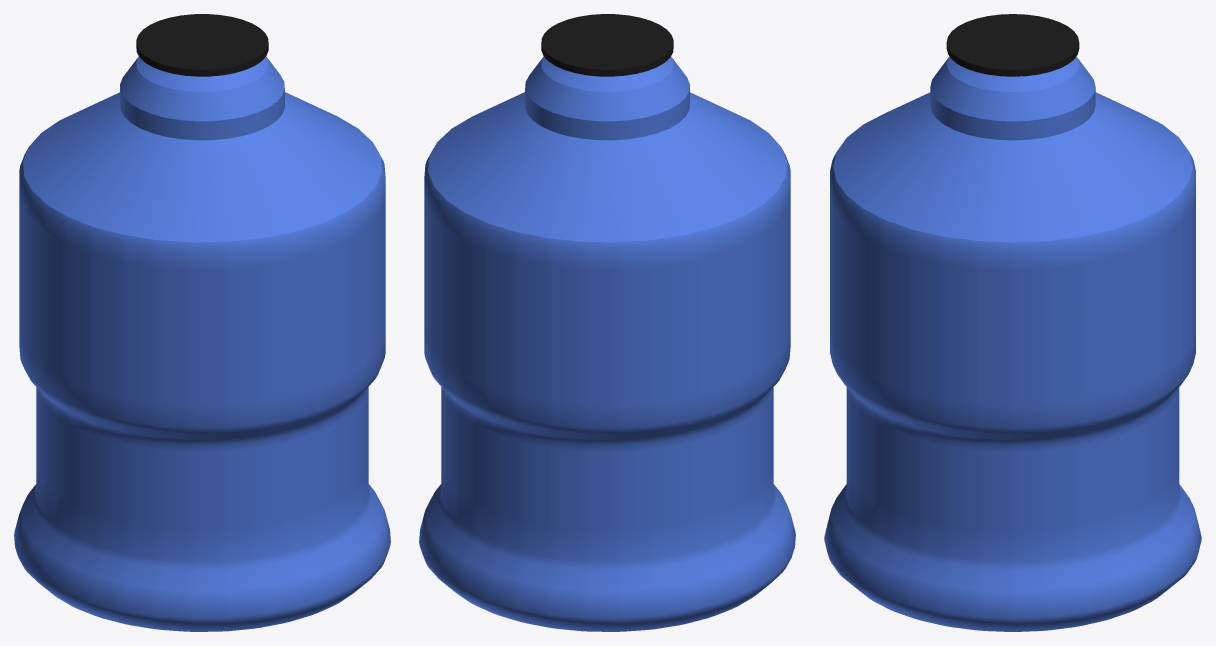
File: bottle1.glb
3 renders of one model, left to right at view 1: azimuth 30°, elevation 25°; view 2: azimuth 150°, elevation 25°; view 3: azimuth 270°, elevation 25°, orthographic.
Parts seen in each view (by area): view 1: Bottle1; view 2: Bottle1; view 3: Bottle1.
Part boxes in pixels (<box>): Bottle1: <box>14,14,390,631</box>; Bottle1: <box>419,14,795,631</box>; Bottle1: <box>824,14,1201,631</box>.
Bounding box in the file's own units: 0.0812 × 0.1249 × 0.0812.
